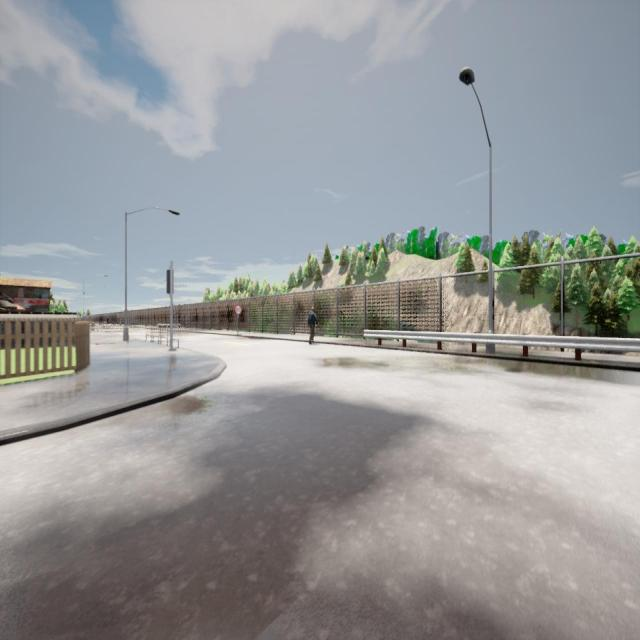Pedestrian: (308, 307, 318, 345)
Traffic_Signs: (234, 305, 242, 314)
traffic_light: (166, 269, 174, 294)
